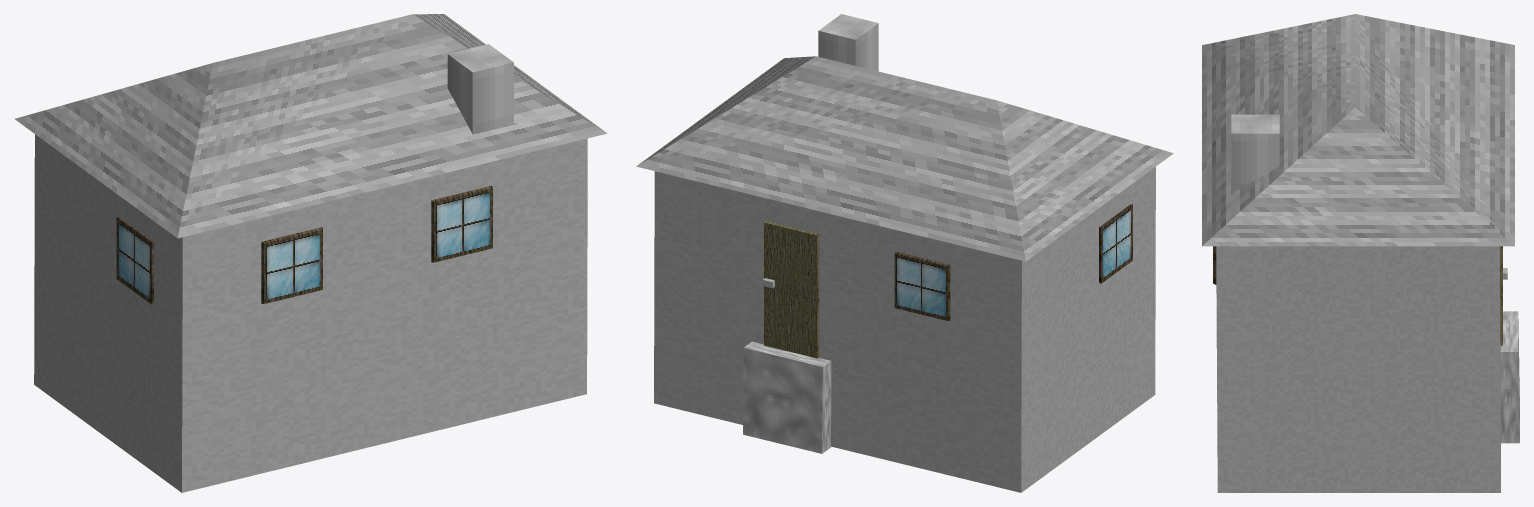
Rendered from house.obj.
The picture shows the model from 3 angles, left to right: view 1: azimuth 30°, elevation 25°; view 2: azimuth 150°, elevation 25°; view 3: azimuth 270°, elevation 25°; orthographic projection. The views are drawn at different scales.
Parts seen in each view (by area): view 1: Box02, Box04, Box06, Box01, Duplicate01, Duplicate02; view 2: Box02, Box04, Box03, Duplicate04, Duplicate03, Box06, Duplicate02; view 3: Box02, Box04, Box06, Box03.
Boxes of the visible parts, x1,y1,x2,y2 form: Box02: [34, 134, 587, 492]; Box04: [15, 14, 607, 238]; Box06: [447, 44, 513, 134]; Box01: [431, 185, 492, 262]; Duplicate01: [261, 227, 322, 303]; Duplicate02: [116, 217, 153, 304]; Box02: [654, 167, 1155, 492]; Box04: [636, 56, 1173, 261]; Box03: [743, 341, 831, 453]; Duplicate04: [764, 220, 819, 358]; Duplicate03: [894, 251, 950, 320]; Box06: [818, 14, 878, 71]; Duplicate02: [1099, 204, 1132, 283]; Box02: [1216, 246, 1500, 492]; Box04: [1202, 14, 1514, 246]; Box06: [1231, 114, 1279, 192]; Box03: [1500, 311, 1519, 443].
Size of the model in its own units: 76 by 59.66 by 50.76.
